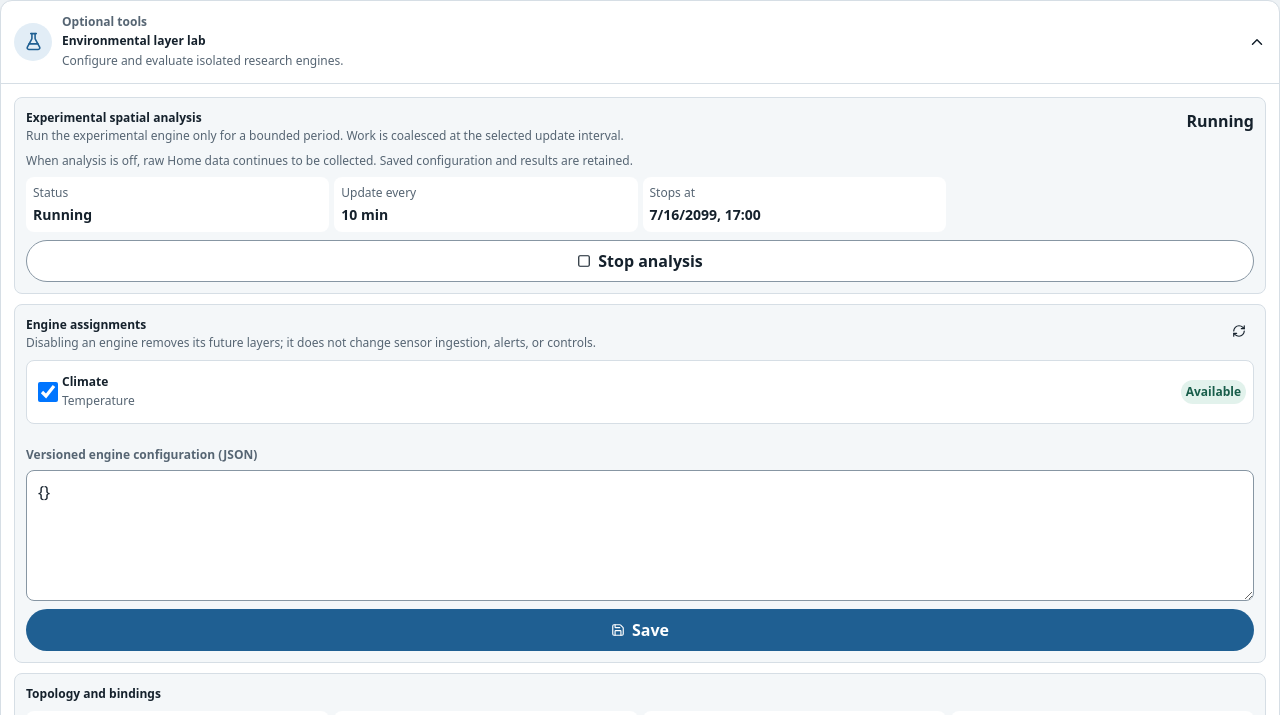
SpatialLayerLab guided calibration › does not let visibility revalidation supersede a pending stop
Click the button "Stop analysis". click: [640, 261]
box: [26,240,1254,282]
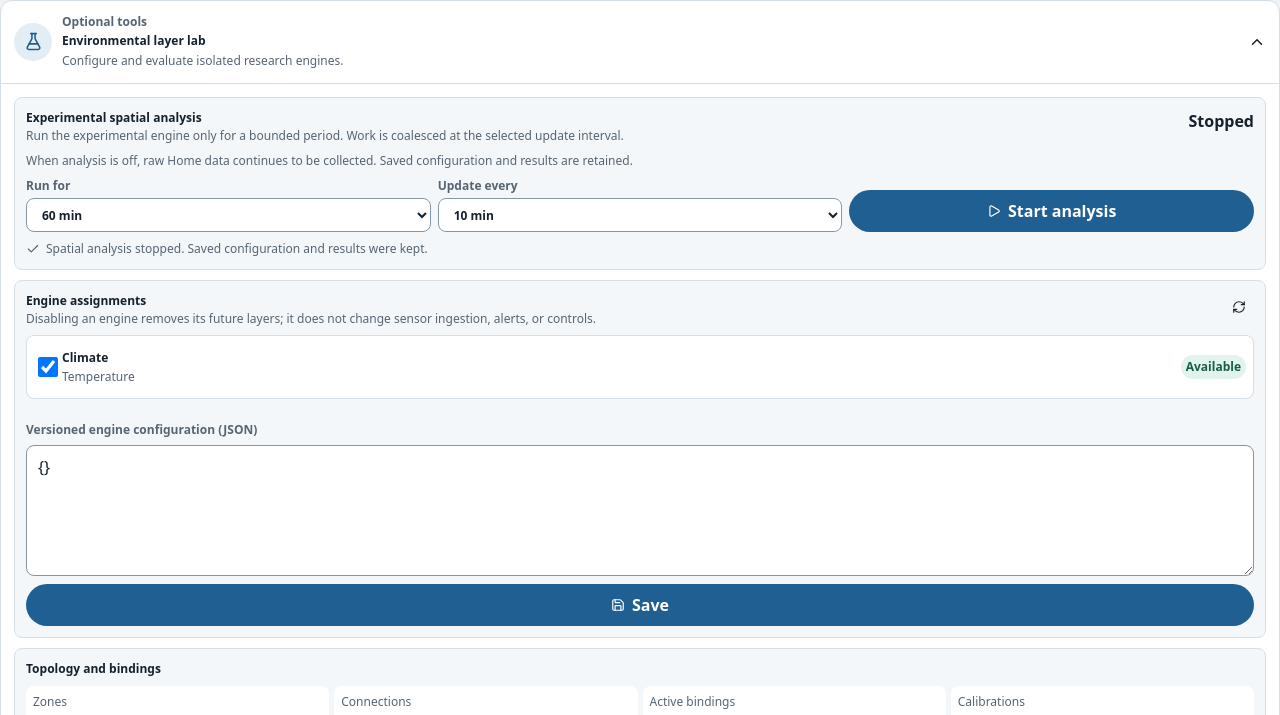
Check: the button "Start analysis" is enabled, box [849,190,1254,232]
Check: the text "Stopped" is shown, box [1188,109,1254,133]
